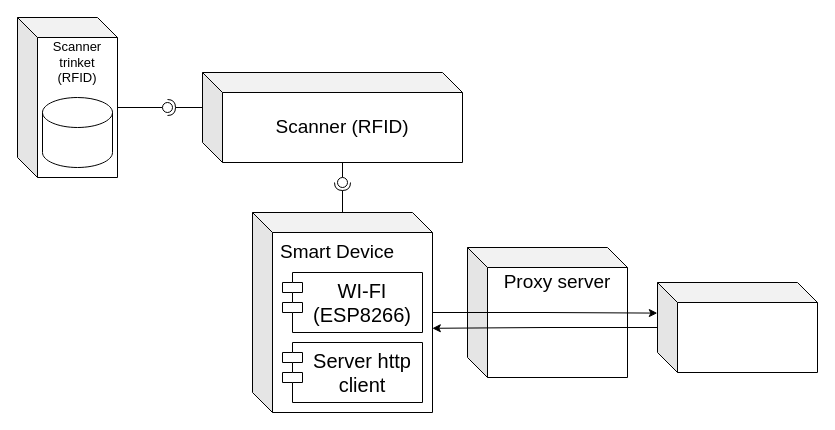
This 835x430 diagram has some shape labels left out. The shapes that lost their labels are listed below. From the top down, each one's box as (x1, y1, x2, y2) in pixels, then its label:
(42, 96, 112, 168): pupil guid in server DB
(656, 282, 818, 372): Server
